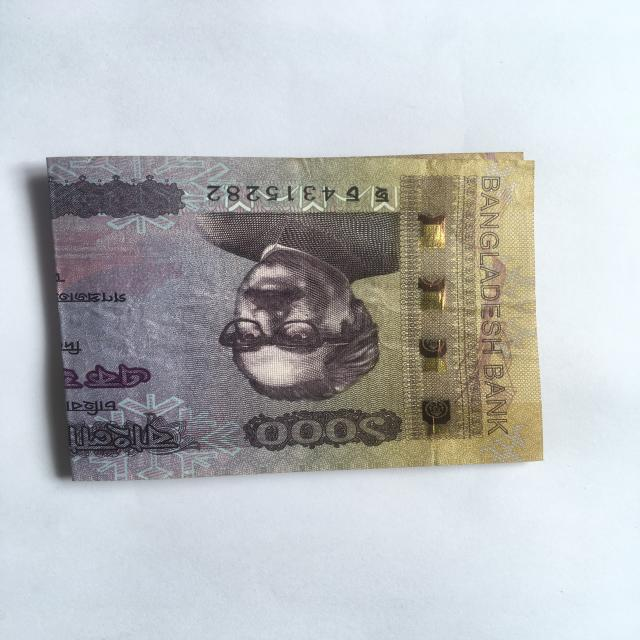Taka: (46, 136, 561, 482)
